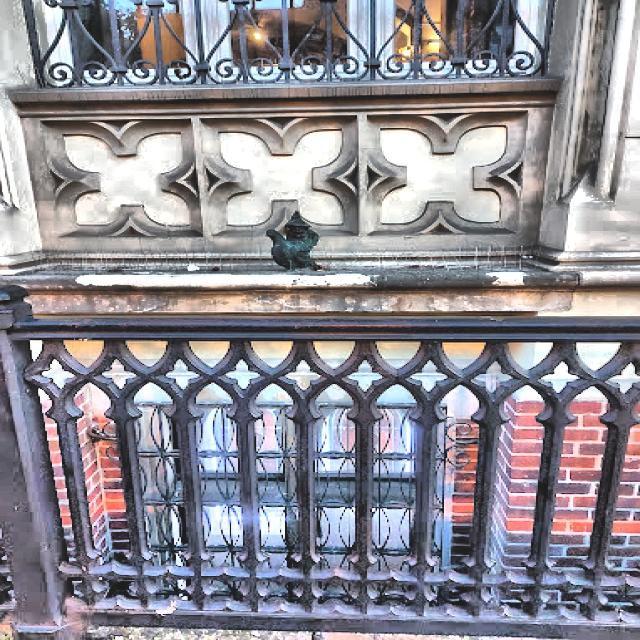Golebnik: (266, 210, 320, 270)
